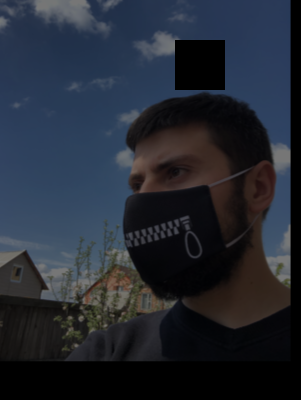with_mask: (122, 150, 232, 302)
